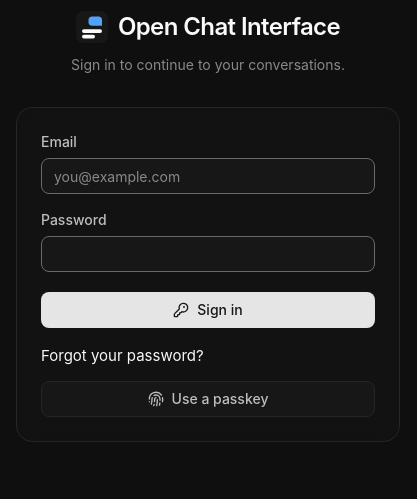
Test case: Use a passkey › announces a refusal as an alert with the server's reason
Click the button "Use a passkey".
click(208, 399)  # box [41, 381, 375, 417]
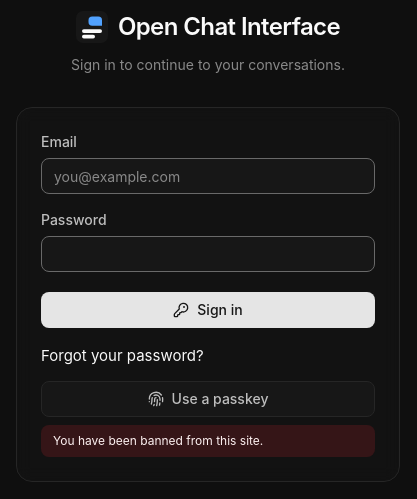
Expected: the message "You have been banned from this site." is shown, [41, 425, 375, 457]
